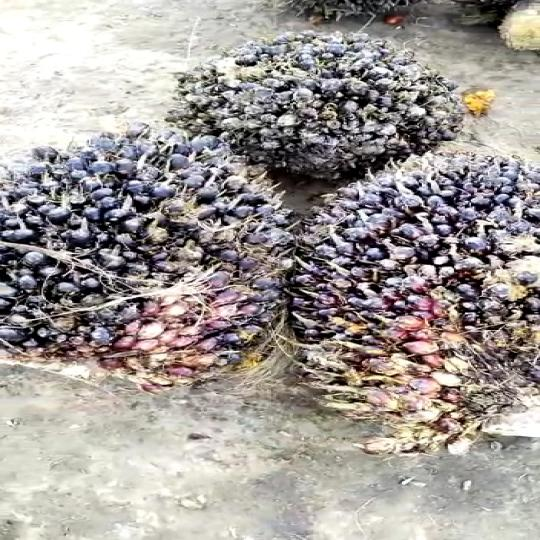mentah: (0, 107, 297, 404), (291, 139, 540, 448), (166, 26, 503, 183)
